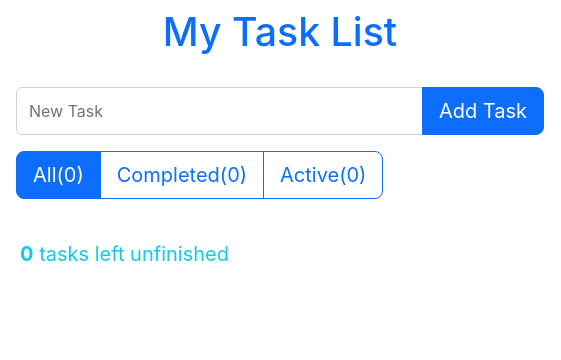
Test: App › Edit the task correctly
The width and height of the screenshot is (561, 360).
Type "Task 1" into the field with placeholder "New Task" at (219, 111), box [16,87,423,135]
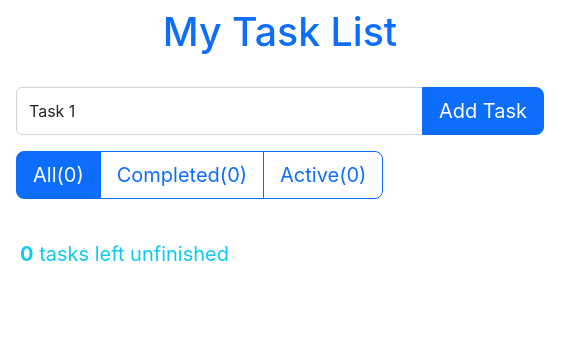
Click the button "Add Task" at (483, 111), box [422,87,544,135]
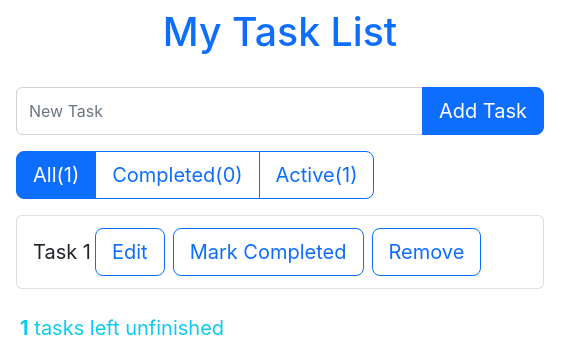
edit the task
Click the button "Edit" at (130, 252), box [95,228,165,276]
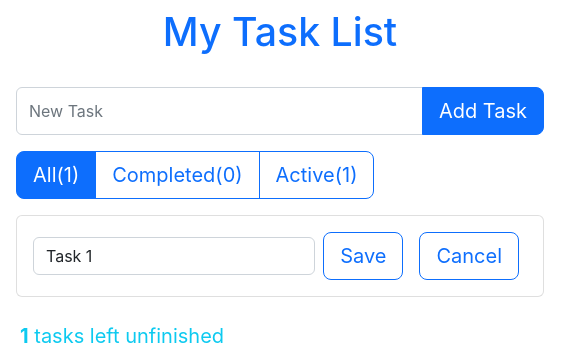
Replace the text in the field showing "Task 1" with "Task 2" at (174, 256), box [33,237,315,275]
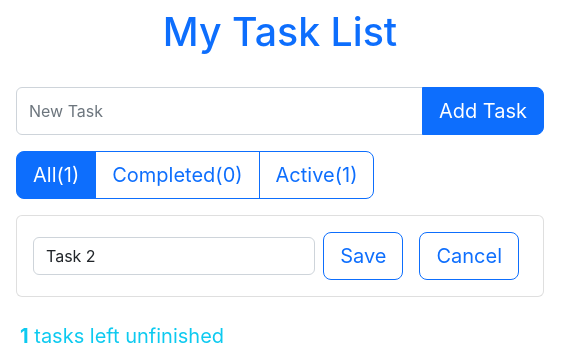
Click the button "Save" at (363, 256), box [323,232,403,280]
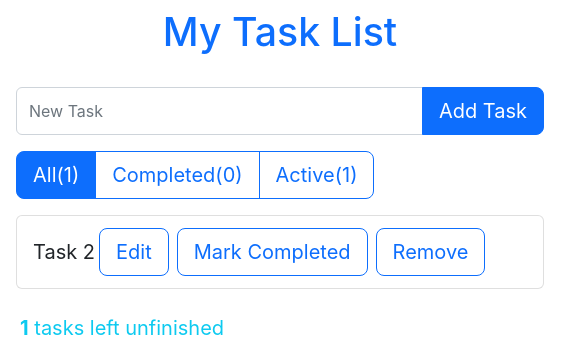
Expected: the button "All(1)" is shown, [16,151,96,199]
Expected: the button "Active(1)" is shown, [259,151,374,199]
Expected: the text "Task 2" is shown, [33,237,95,267]
